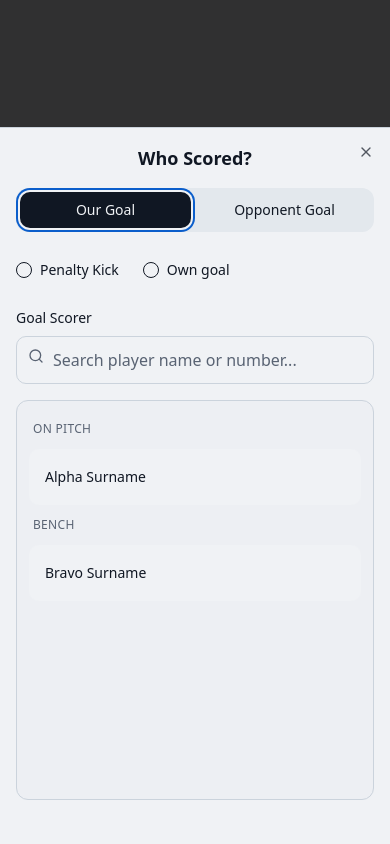
Scenario: QuickGoalButton › 'No Assist' is present in the assist step
The image size is (390, 844).
Click the button "Alpha Surname".
click(64, 476)  # box [29,449,361,505]
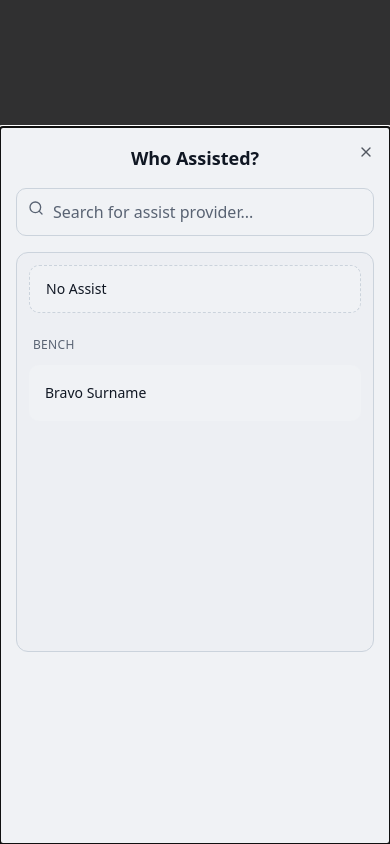
Check: the button "No Assist" is shown, box [29,265,361,313]
